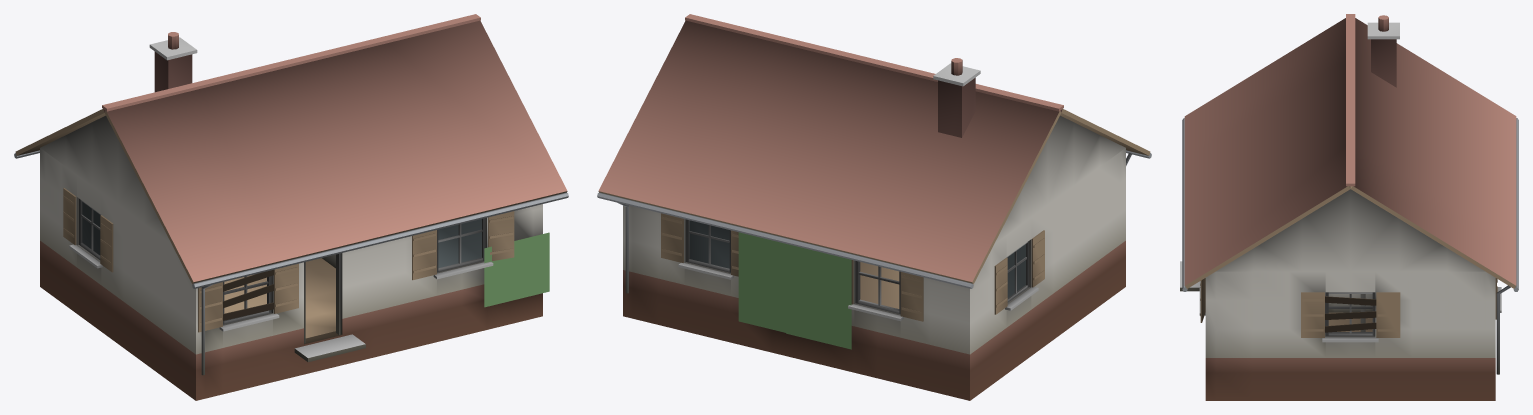
Rendered from house_a3.glb.
3 views of the same model, side by side, from view 1: azimuth 30°, elevation 25°; view 2: azimuth 150°, elevation 25°; view 3: azimuth 270°, elevation 25° (orthographic). The views are drawn at different scales.
Visible parts, largest first — view 1: house_a3; view 2: house_a3; view 3: house_a3.
Boxes of the visible parts, x1,y1,x2,y2 form: house_a3: (14,14,568,400); house_a3: (597,14,1151,400); house_a3: (1180,14,1518,400).
Size of the model in its own units: 9.7 by 6.91 by 8.19.
